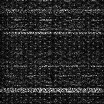lte: (1, 87, 104, 92), (1, 31, 104, 34)
